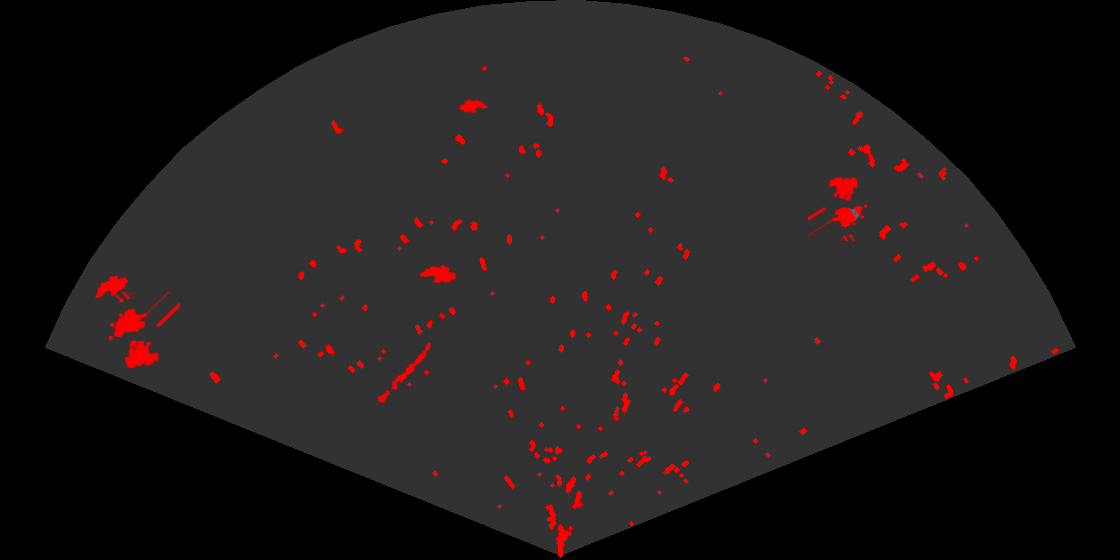AUV: (93, 274, 130, 300), (417, 263, 458, 285), (457, 97, 490, 115)
cage: (107, 292, 180, 370), (808, 175, 870, 241)
chain: (372, 341, 433, 412)
